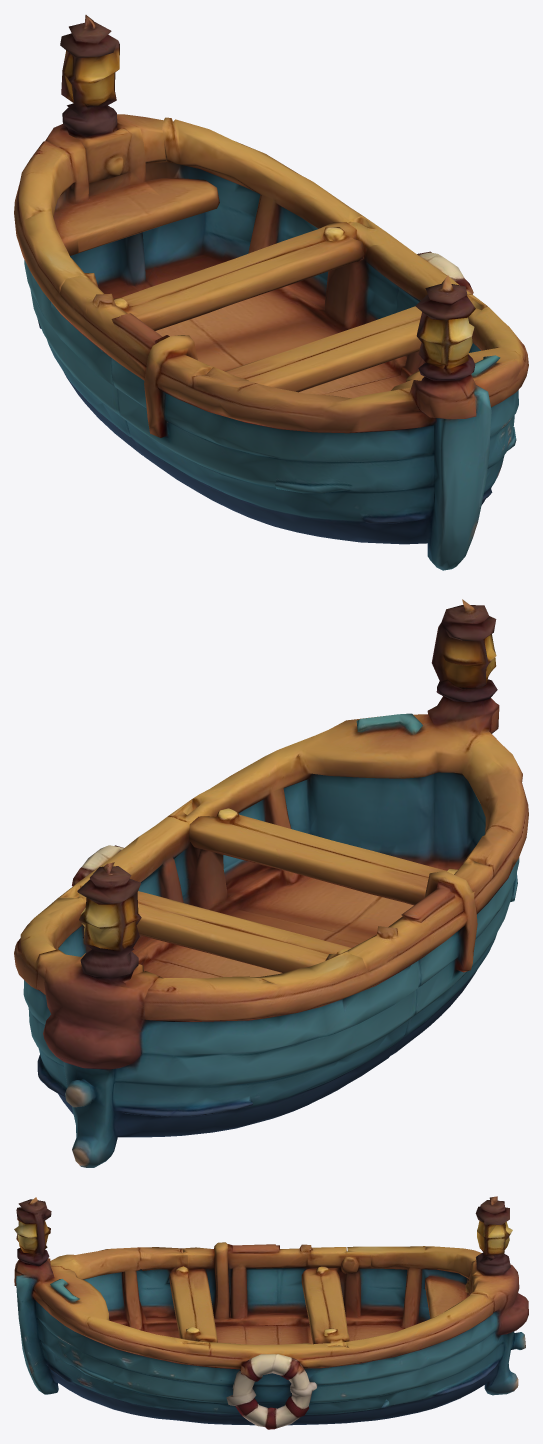
File: buoy-boat.glb
3 renders of one model, top to bottom at view 1: azimuth 30°, elevation 25°; view 2: azimuth 150°, elevation 25°; view 3: azimuth 270°, elevation 25°, orthographic. The views are drawn at different scales.
Visible parts, largest first — view 1: tripo_node_027f3970-e579-48a1-9d80-37f0ee9f8bd8; view 2: tripo_node_027f3970-e579-48a1-9d80-37f0ee9f8bd8; view 3: tripo_node_027f3970-e579-48a1-9d80-37f0ee9f8bd8.
Part boxes in pixels (box(x1,y1,x2,y2)): tripo_node_027f3970-e579-48a1-9d80-37f0ee9f8bd8: box(14, 15, 528, 570); tripo_node_027f3970-e579-48a1-9d80-37f0ee9f8bd8: box(14, 599, 528, 1167); tripo_node_027f3970-e579-48a1-9d80-37f0ee9f8bd8: box(14, 1196, 528, 1429).
Bounding box in the file's own units: 3.62 × 3 × 7.21.
Materials: 1 (1 with a texture image).
